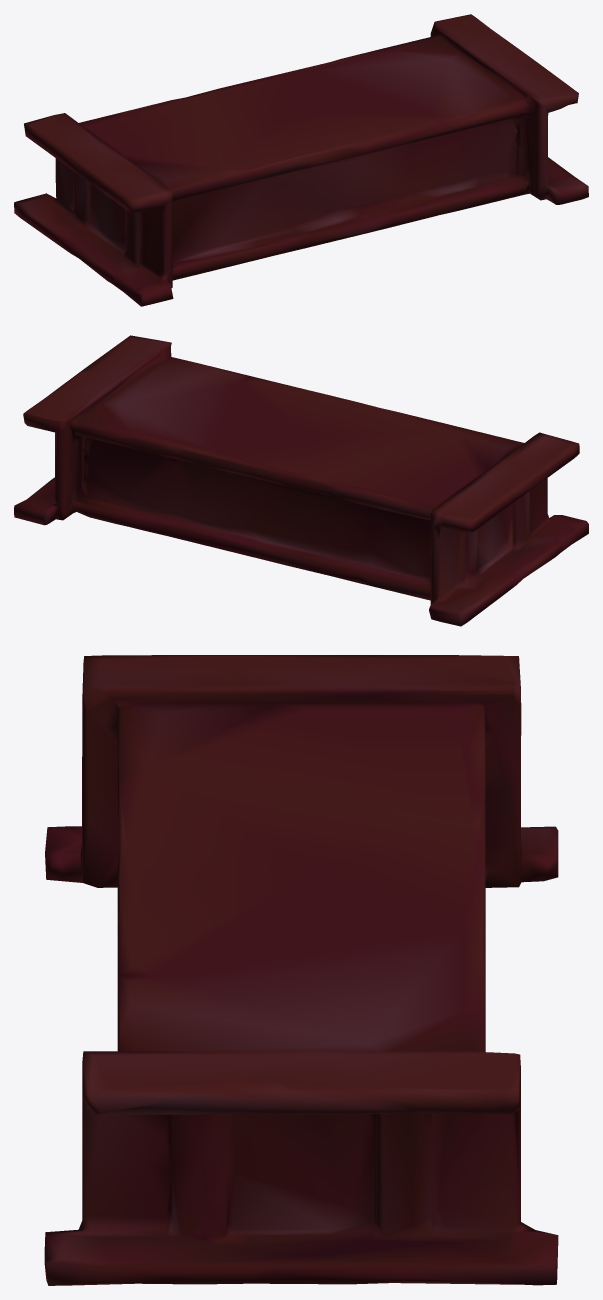
The model's file is gen3d-steel-beam-lod0.glb.
The picture shows the model from 3 angles, top to bottom: view 1: azimuth 30°, elevation 25°; view 2: azimuth 150°, elevation 25°; view 3: azimuth 270°, elevation 25°; orthographic projection. The views are drawn at different scales.
Parts seen in each view (by area): view 1: part_0; view 2: part_0; view 3: part_0.
Boxes of the visible parts, box(x1,y1,x2,y2) form: part_0: box(14, 14, 588, 306); part_0: box(14, 335, 588, 626); part_0: box(44, 655, 558, 1285).
Bounding box in the file's own units: 4.73 × 0.9997 × 2.34.
